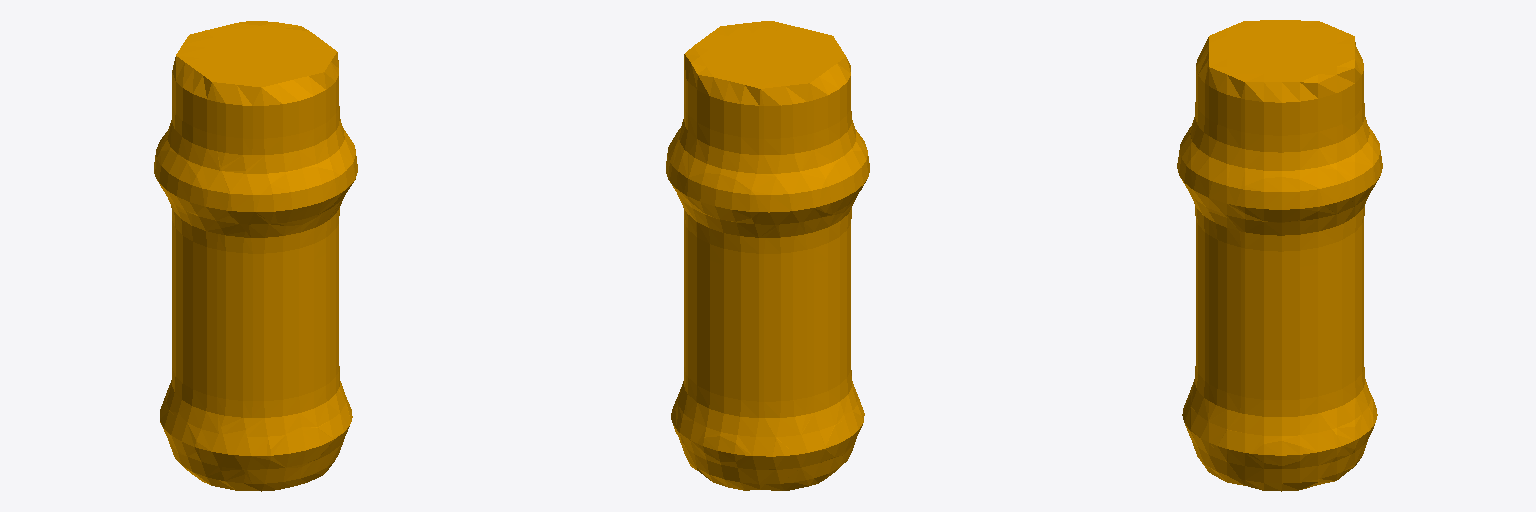
robot.urdf — cylinder_../../meshes/cylinders/cylinder_49.stl:
<?xml version="1.0" encoding="utf-8"?>  <robot name="cylinder_../../meshes/cylinders/cylinder_49.stl">   <link name="cylinder_../../meshes/cylinders/cylinder_49.stl">     <visual>       <geometry>         <mesh filename="../meshes/cylinders/cylinder_49.stl" scale="1 1 1"/>       </geometry>     </visual>     <collision>       <geometry>         <mesh filename="../meshes/cylinders/cylinder_49.stl" scale="1 1 1"/>       </geometry>     </collision>     <inertial>        <origin         xyz="0 0 0"         rpy="0 0 0" />       <mass value="0.22203939856461322"/>       <origin rpy="0 0 0" xyz="0 0 0"/>       <inertia ixx="0.0003145434504778217" ixy="5.133451544796167e-09" ixz="-9.633533180723807e-08" iyy="0.0003145434438562995" iyz="-1.0859439670779147e-07" izz="6.436712083620862e-05"/>     </inertial>   </link>  </robot>

--- Render facts (derived) ---
3 views of the same robot in one strip: view 1: azimuth 30°, elevation 25°; view 2: azimuth 150°, elevation 25°; view 3: azimuth 270°, elevation 25° (orthographic).
Robot: cylinder_../../meshes/cylinders/cylinder_49.stl — 1 links, 0 joints (none); root link cylinder_../../meshes/cylinders/cylinder_49.stl; default pose: every joint at zero.
Visible links, largest first — view 1: cylinder_../../meshes/cylinders/cylinder_49.stl; view 2: cylinder_../../meshes/cylinders/cylinder_49.stl; view 3: cylinder_../../meshes/cylinders/cylinder_49.stl.
Link boxes in pixels (x1,y1,x2,y2): cylinder_../../meshes/cylinders/cylinder_49.stl: (154, 21, 357, 491); cylinder_../../meshes/cylinders/cylinder_49.stl: (666, 21, 869, 490); cylinder_../../meshes/cylinders/cylinder_49.stl: (1177, 20, 1382, 491).
Bounding box of the posed robot: 0.0565 × 0.0565 × 0.1241 m (x, y, z).
1 mesh visuals loaded from 1 distinct referenced files (1 binary STL).